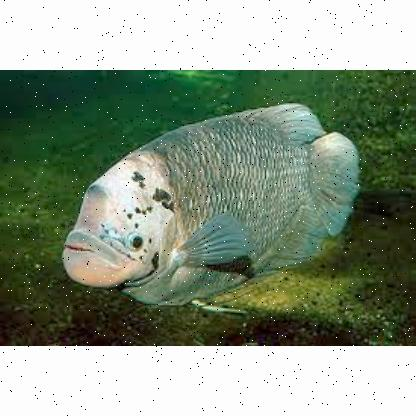gurame: (61, 102, 354, 308)
